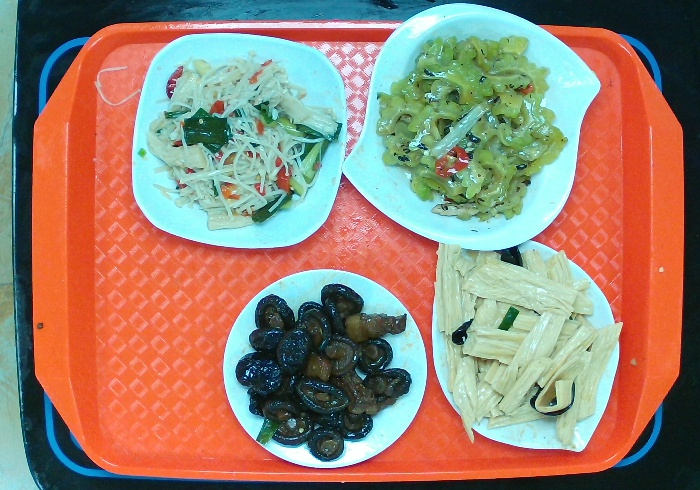RJxy-Da_Du_Pan: (429, 226, 621, 455)
RJxy-Shuang_Jiao_Pan: (340, 3, 606, 254)
RJxy-Si_Fang_Wan: (129, 31, 348, 248)
RJxy-Xiao_Yuan_Die: (224, 267, 431, 472)
